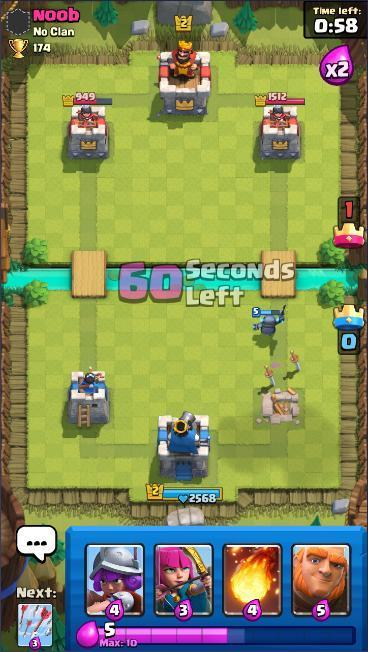ally_mini_pekka: (250, 302, 290, 339)
